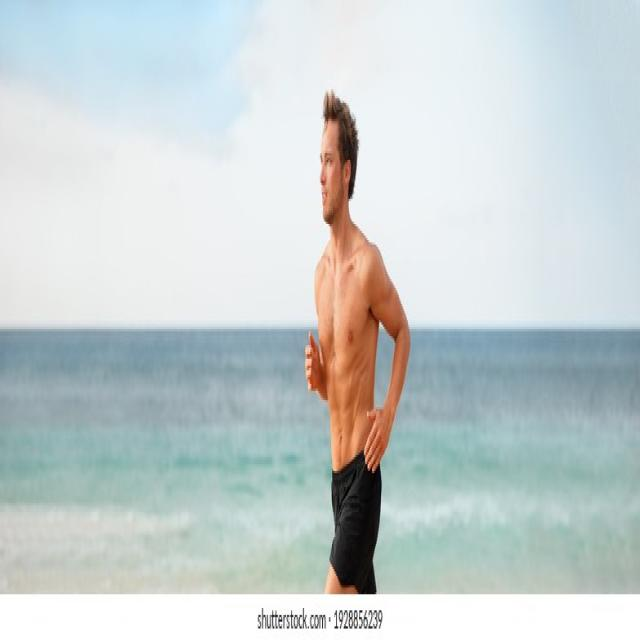running: (304, 82, 413, 596)
